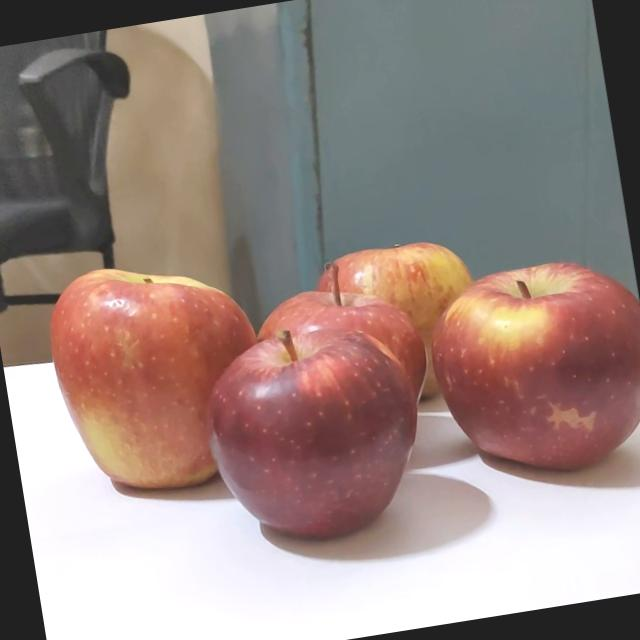apple: (38, 252, 280, 517), (176, 316, 420, 566), (402, 260, 640, 505), (239, 256, 437, 488), (322, 233, 500, 432)
